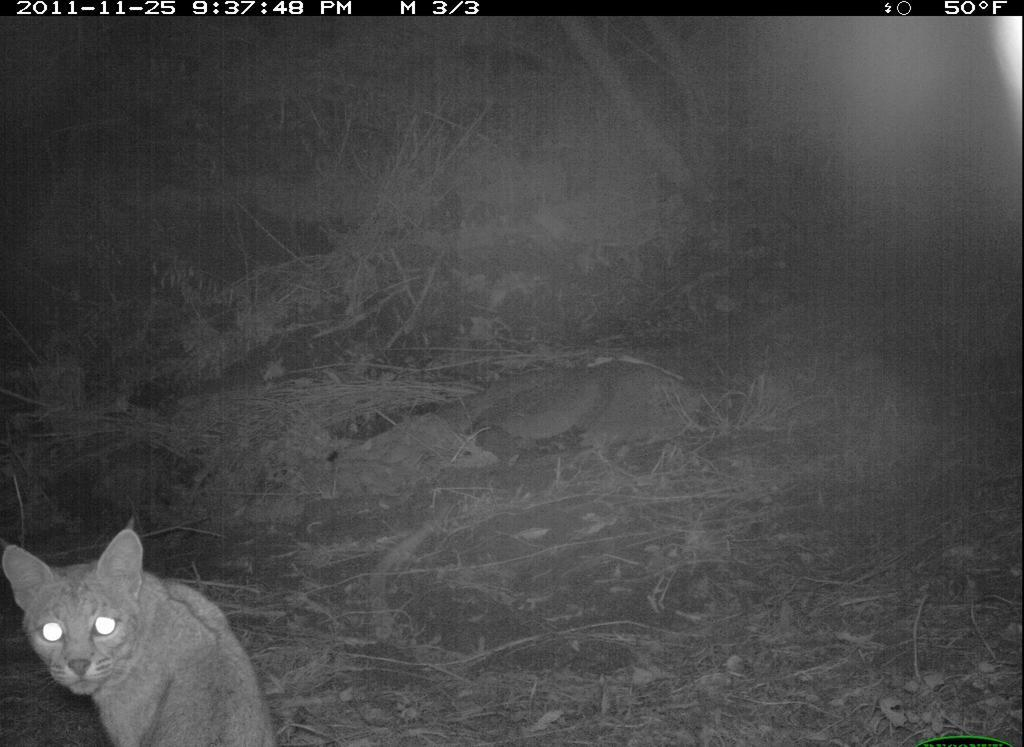bobcat: (1, 518, 273, 742)
